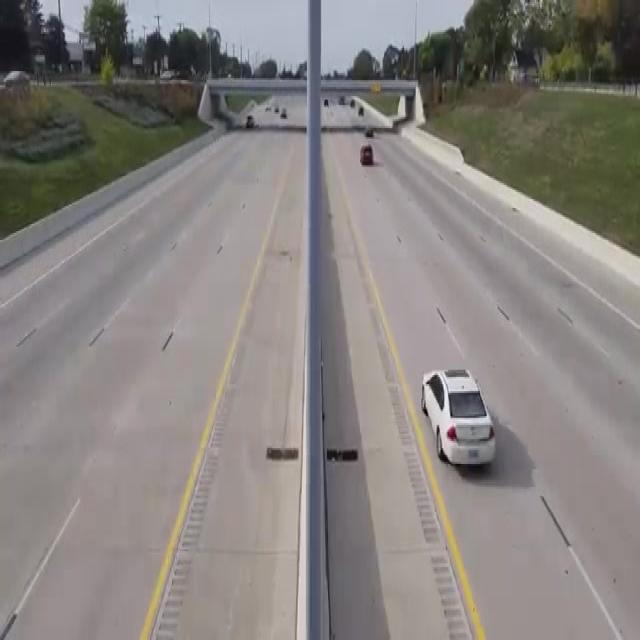car: (415, 337, 508, 483), (358, 142, 378, 170), (240, 104, 260, 130), (365, 126, 377, 142)
